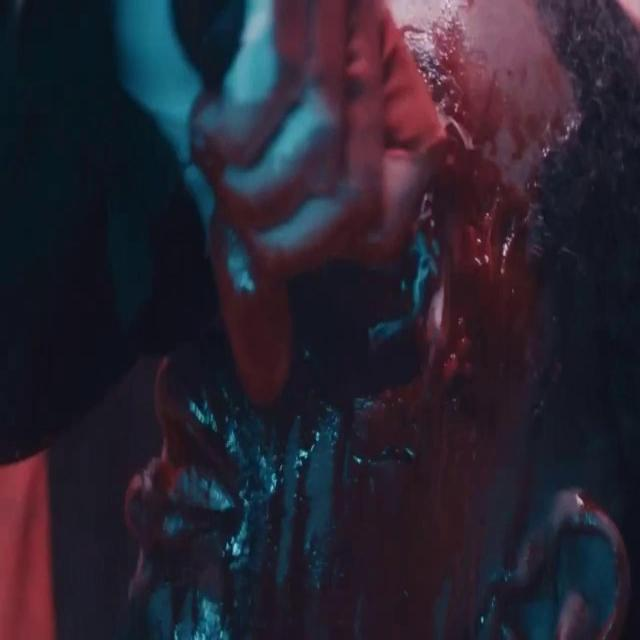flood: (273, 417, 483, 640), (423, 11, 522, 414)
